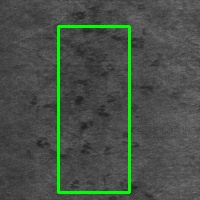rolled-in_scale: (58, 26, 129, 192)
